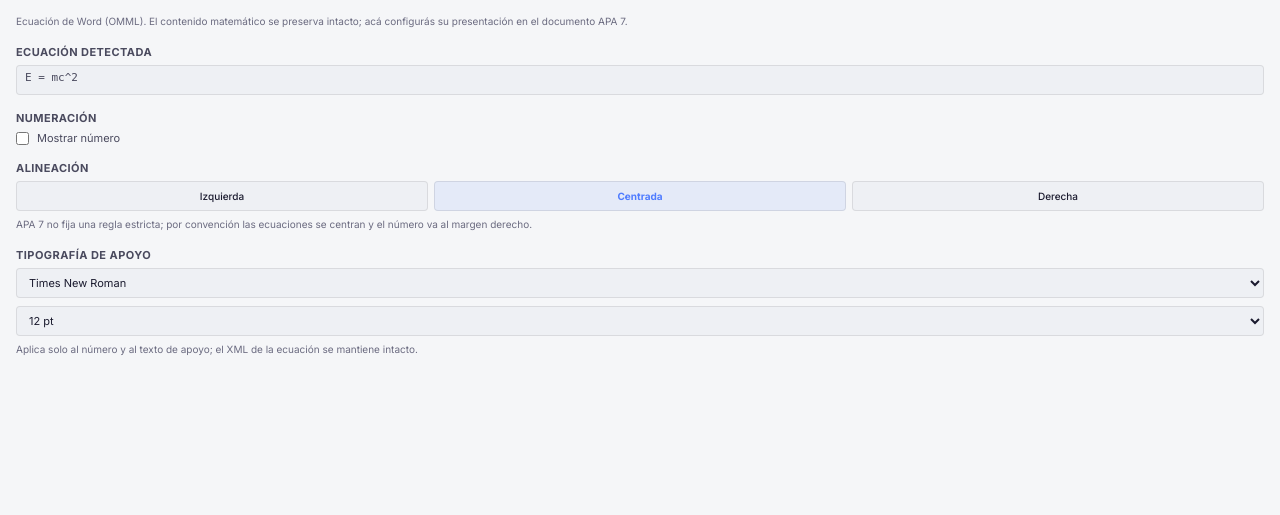
Test: el editor de ecuación › con la numeración apagada no pide formato ni número
This screenshot has width=1280, height=515.
expect the text "Formato del número" is not shown: met
expect the field with placeholder "Auto" is not shown: met
Click the checkbox labelled "Mostrar número": [22, 138] box [16,132,29,144]
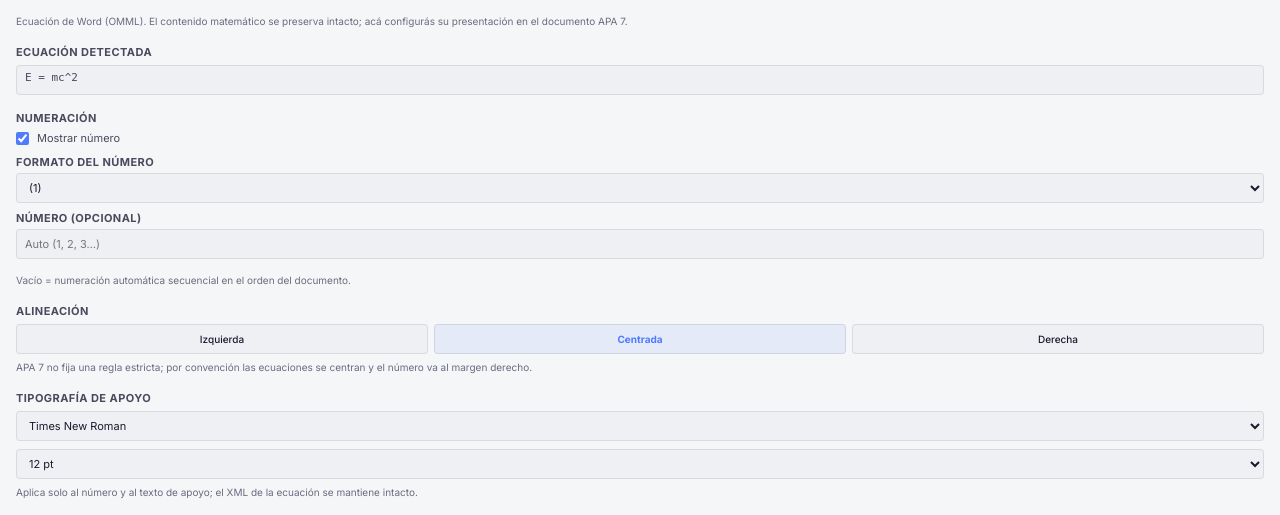
expect the text "Formato del número" is shown: met, box [16,155,154,169]
